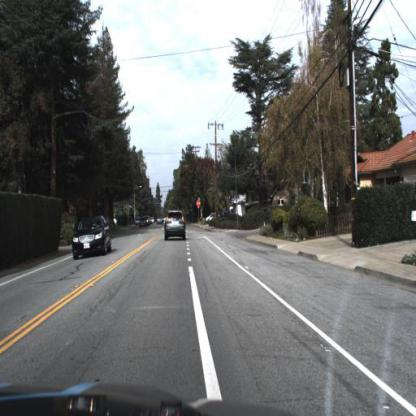car: (72, 213, 114, 262), (71, 215, 115, 259), (163, 211, 187, 243), (139, 216, 151, 232)
